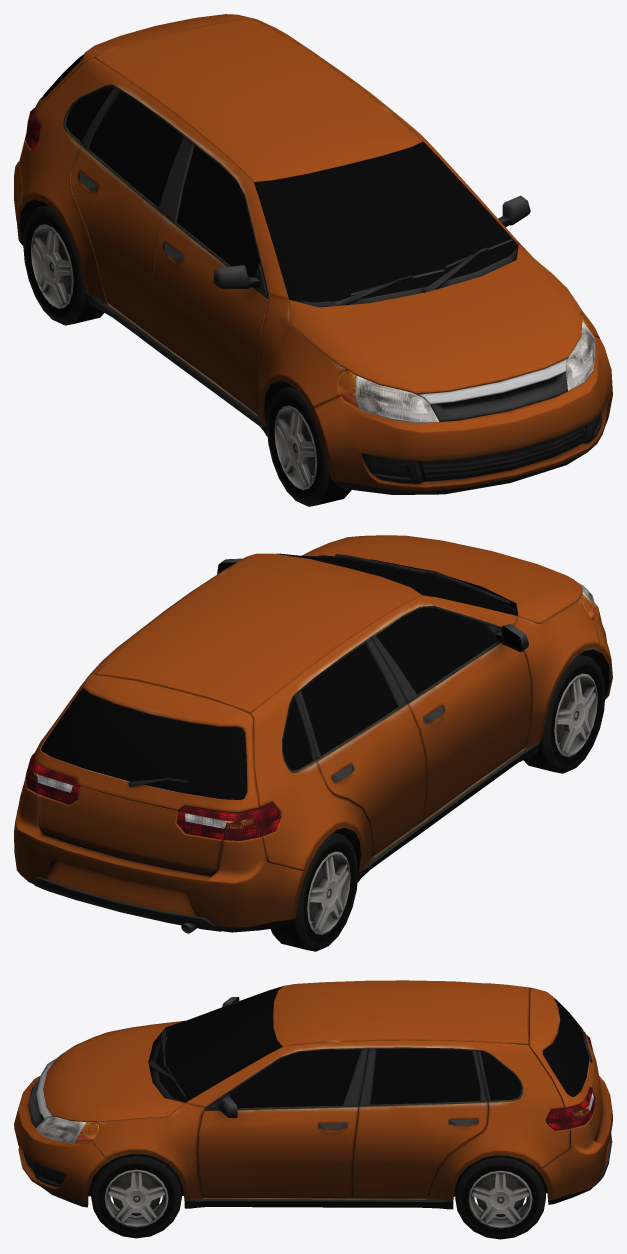
The model's file is hatch_orange.glb.
3 views of the same model, one above another, from view 1: azimuth 30°, elevation 25°; view 2: azimuth 150°, elevation 25°; view 3: azimuth 270°, elevation 25° (orthographic). The views are drawn at different scales.
Visible parts, largest first — view 1: hatch body, Front Right Wheel, Rear Right Wheel; view 2: hatch body, Rear Right Wheel, Front Right Wheel; view 3: hatch body, Front Left Wheel, Rear Left Wheel.
Boxes of the visible parts, box(x1,y1,x2,y2) form: hatch body: box(14, 14, 612, 494); Front Right Wheel: box(267, 386, 351, 506); Rear Right Wheel: box(23, 205, 104, 325); hatch body: box(14, 535, 612, 933); Rear Right Wheel: box(270, 832, 358, 951); Front Right Wheel: box(523, 654, 605, 773); hatch body: box(14, 980, 612, 1209); Front Left Wheel: box(91, 1154, 181, 1238); Rear Left Wheel: box(455, 1155, 545, 1239).
Size of the model in its own units: 1.74 by 1.35 by 3.96.
Materials: 1 (1 with a texture image).
